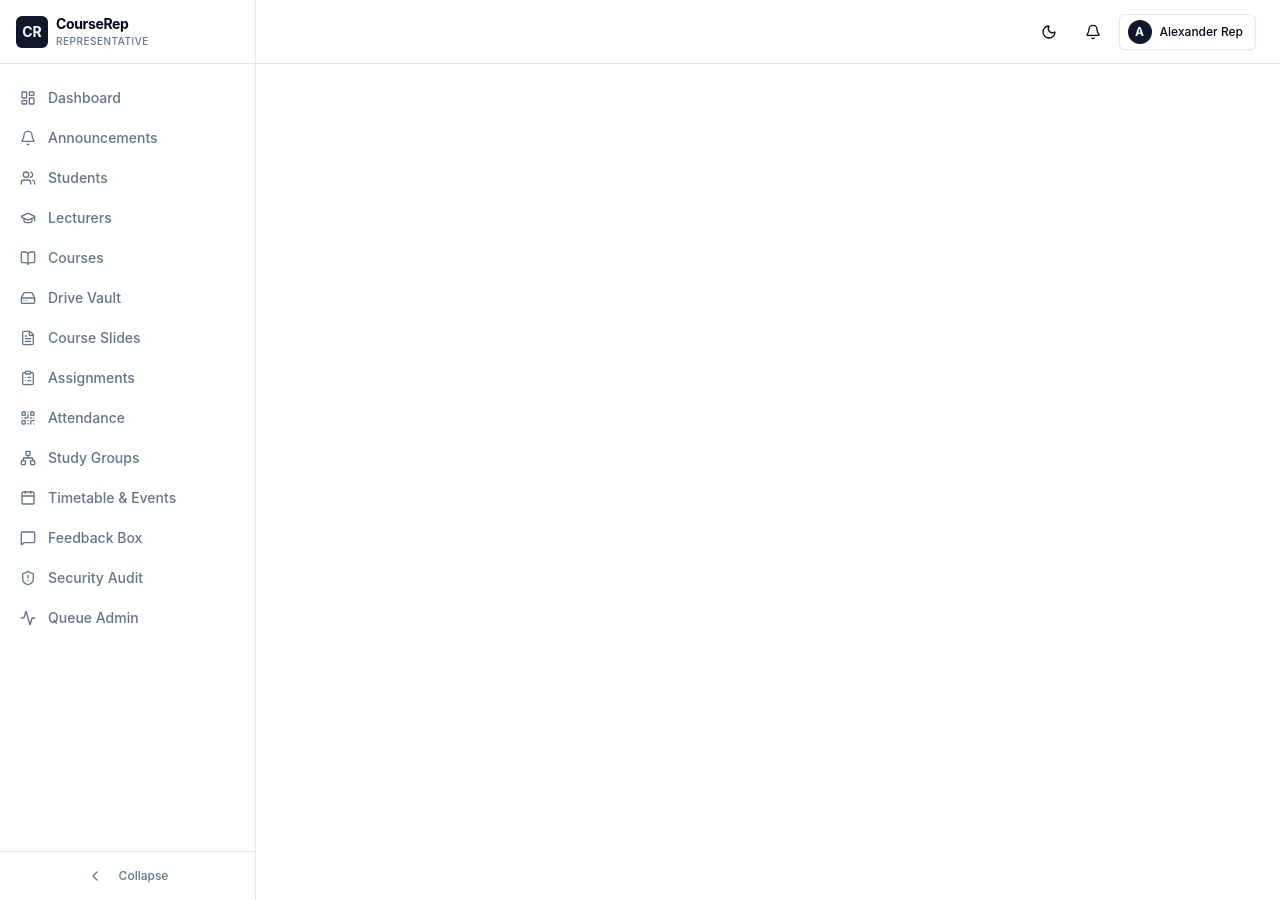
it: AppLayout & Sidebar › displays Push Alerts option in Navbar user menu
Press the mouse on the button with aria-label "Open user menu" at (1187, 32), box [1119,14,1256,50]
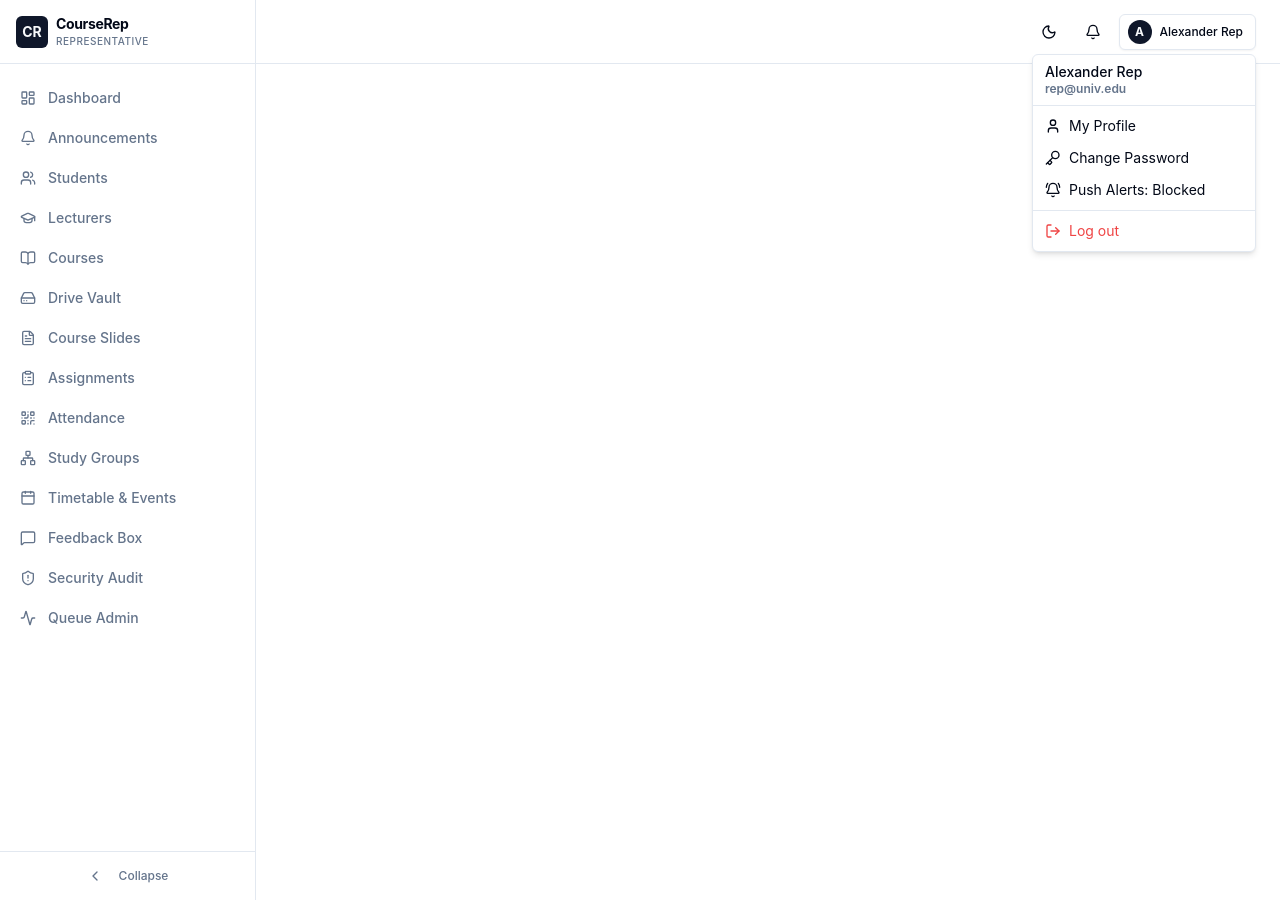
Expected: the text "Push Alerts: Blocked" is shown, [1069,180,1205,200]
